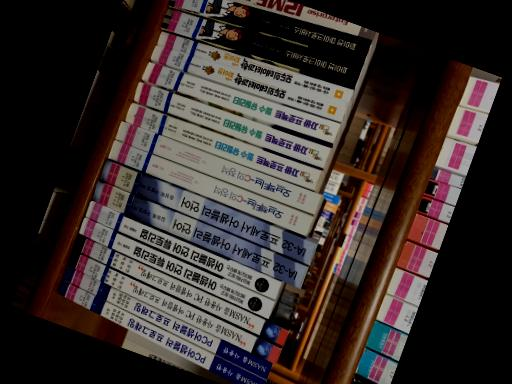book-spine: (66, 249, 282, 364), (72, 233, 288, 347), (62, 266, 271, 379), (92, 179, 307, 288), (98, 159, 316, 265), (57, 280, 264, 384), (77, 216, 273, 318), (108, 140, 312, 236), (85, 200, 280, 299), (115, 120, 320, 214), (124, 102, 320, 190), (132, 81, 329, 168), (140, 61, 340, 142), (160, 7, 363, 86), (148, 43, 345, 121), (155, 30, 353, 101), (167, 0, 372, 62), (229, 0, 376, 40)
